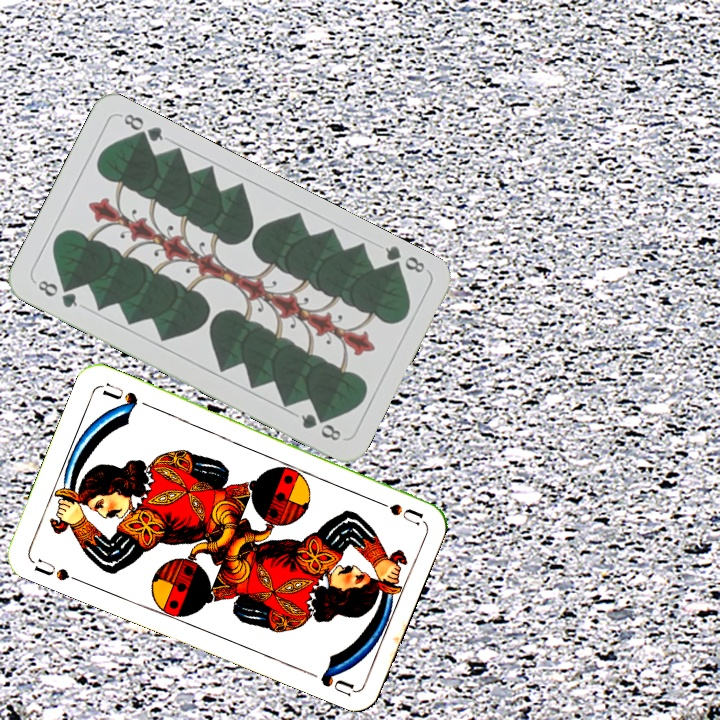G8: (380, 242, 428, 277), (33, 276, 80, 311)
SU: (367, 494, 425, 528), (30, 554, 85, 586)
